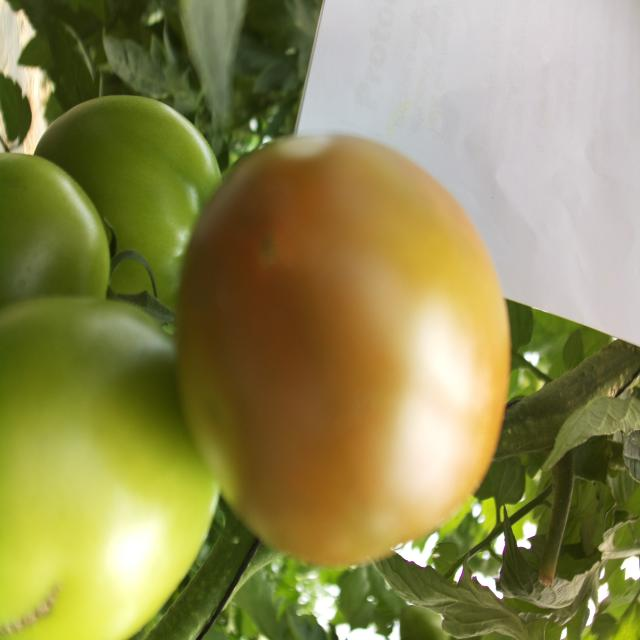sari: (169, 133, 535, 581)
